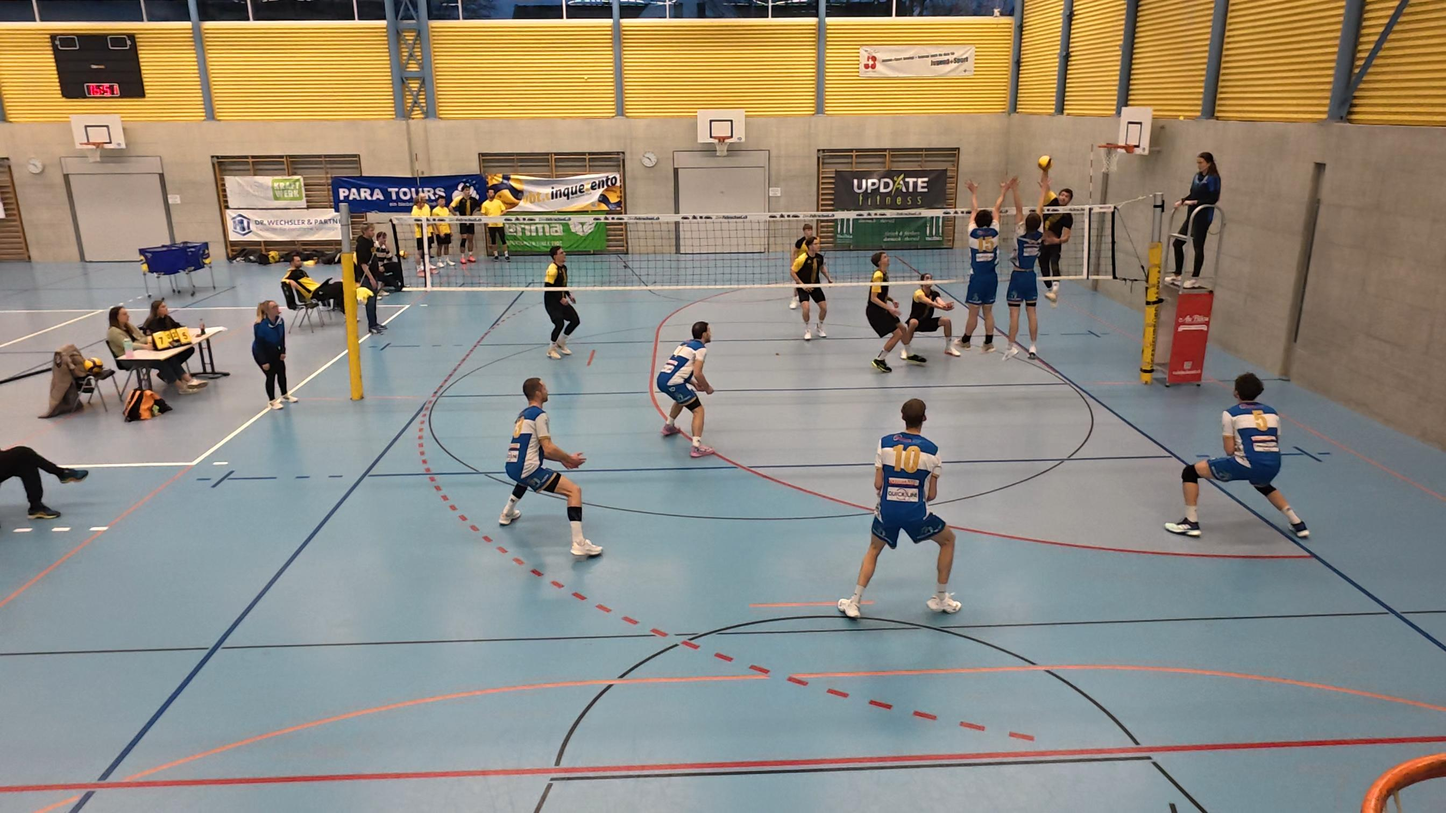attacco: (1021, 174, 1084, 311)
muro: (988, 176, 1047, 360), (954, 173, 1008, 358)
